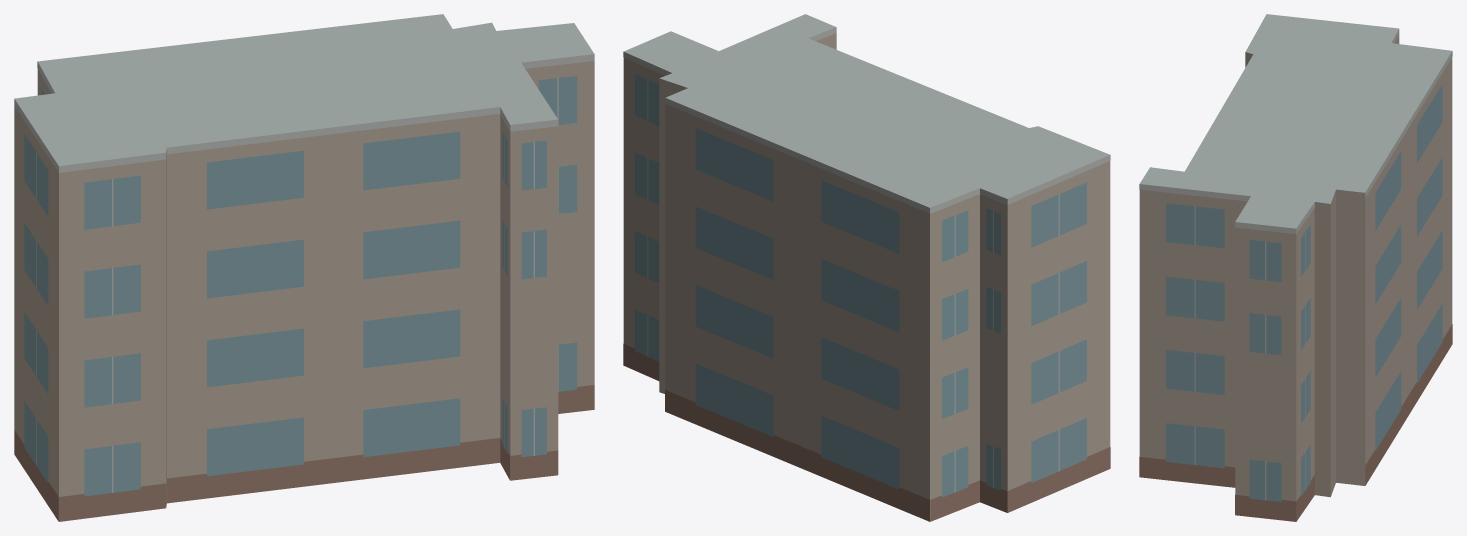
The model's file is survey-upis-32752190.glb.
3 views of the same model, side by side, from view 1: azimuth 30°, elevation 25°; view 2: azimuth 150°, elevation 25°; view 3: azimuth 270°, elevation 25° (orthographic). The views are drawn at different scales.
Parts seen in each view (by area): view 1: survey-upis-32752190.tmp; view 2: survey-upis-32752190.tmp; view 3: survey-upis-32752190.tmp.
Boxes of the visible parts, x1,y1,x2,y2 form: survey-upis-32752190.tmp: [14, 14, 594, 521]; survey-upis-32752190.tmp: [623, 14, 1110, 521]; survey-upis-32752190.tmp: [1139, 14, 1452, 521].
Size of the model in its own units: 20.26 by 12.9 by 12.49.
